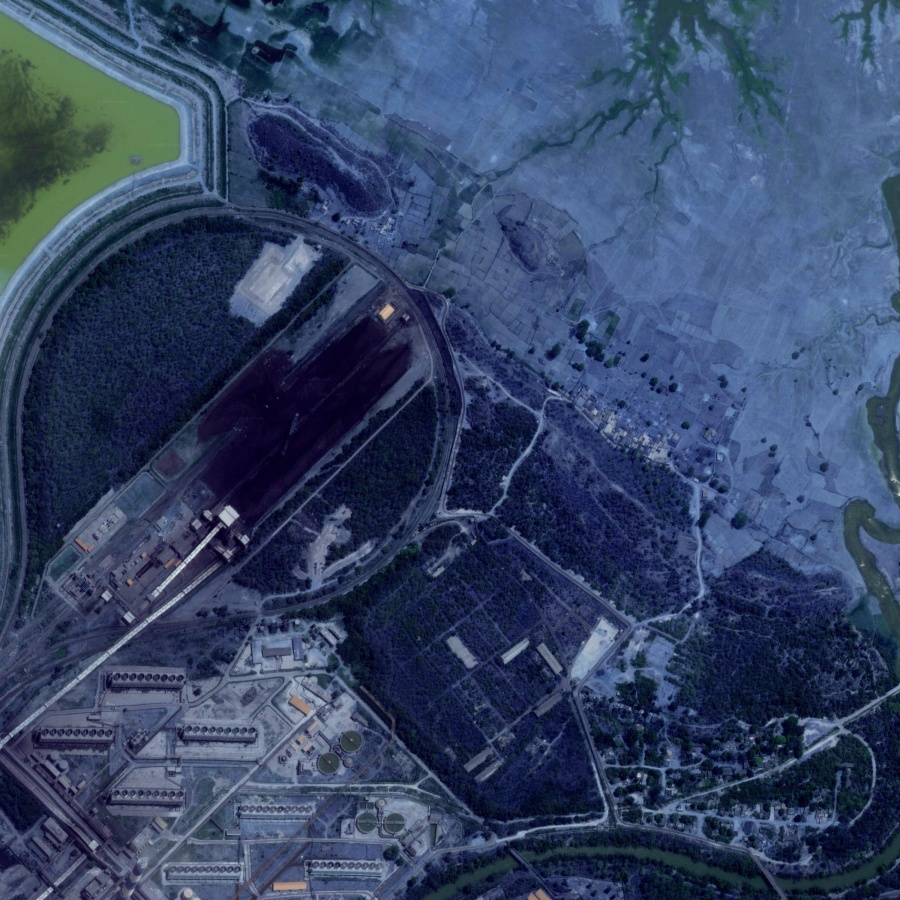PowerPlant: (152, 284, 430, 566)
